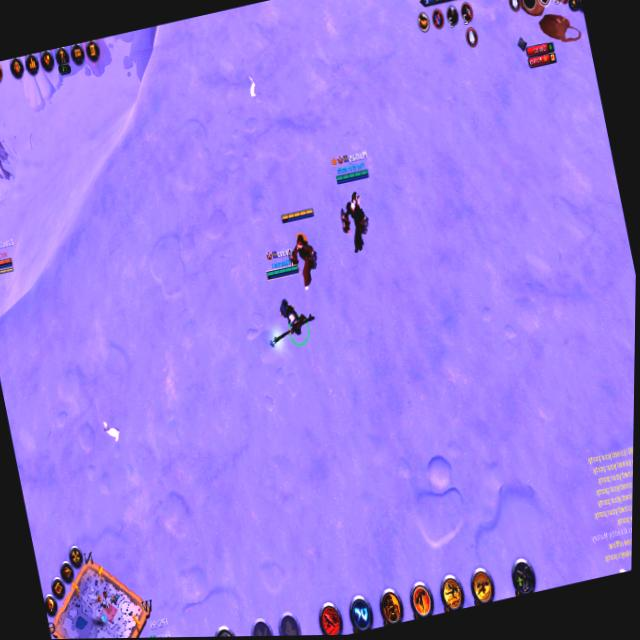ore: (535, 0, 581, 10)
red: (244, 236, 332, 369), (319, 140, 393, 263), (275, 198, 336, 298), (0, 228, 28, 291)
tree: (73, 35, 122, 91)
